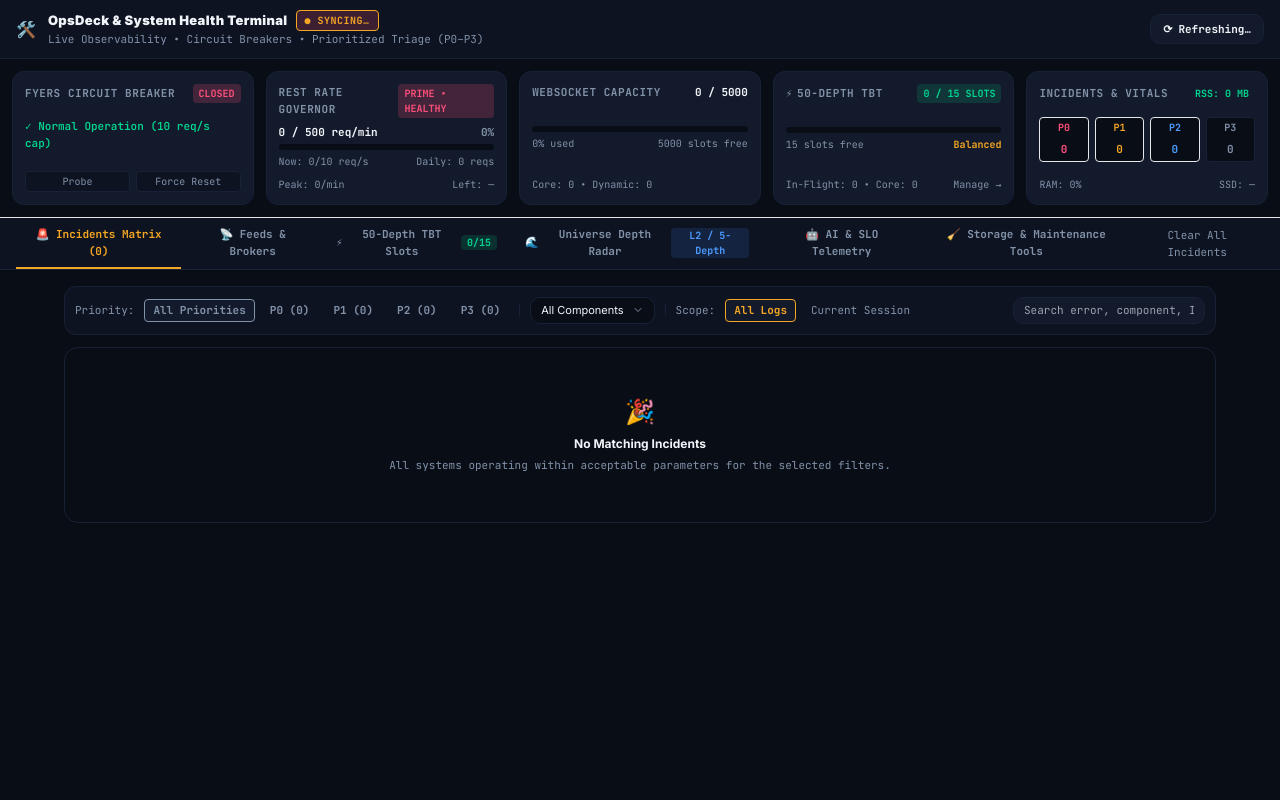
it: OpsDeck & System Health Hub UI Tests › OpsDeckView renders full institutional dashboard with tabs
Expected: the heading "OpsDeck & System Health Terminal" is shown, [48,10,288,31]
Expected: the text "PRIME • HEALTHY" is shown, [398,84,494,118]
Step 1. Click the button with test id "tab-feeds" → [253, 244], box [185,218,320,269]
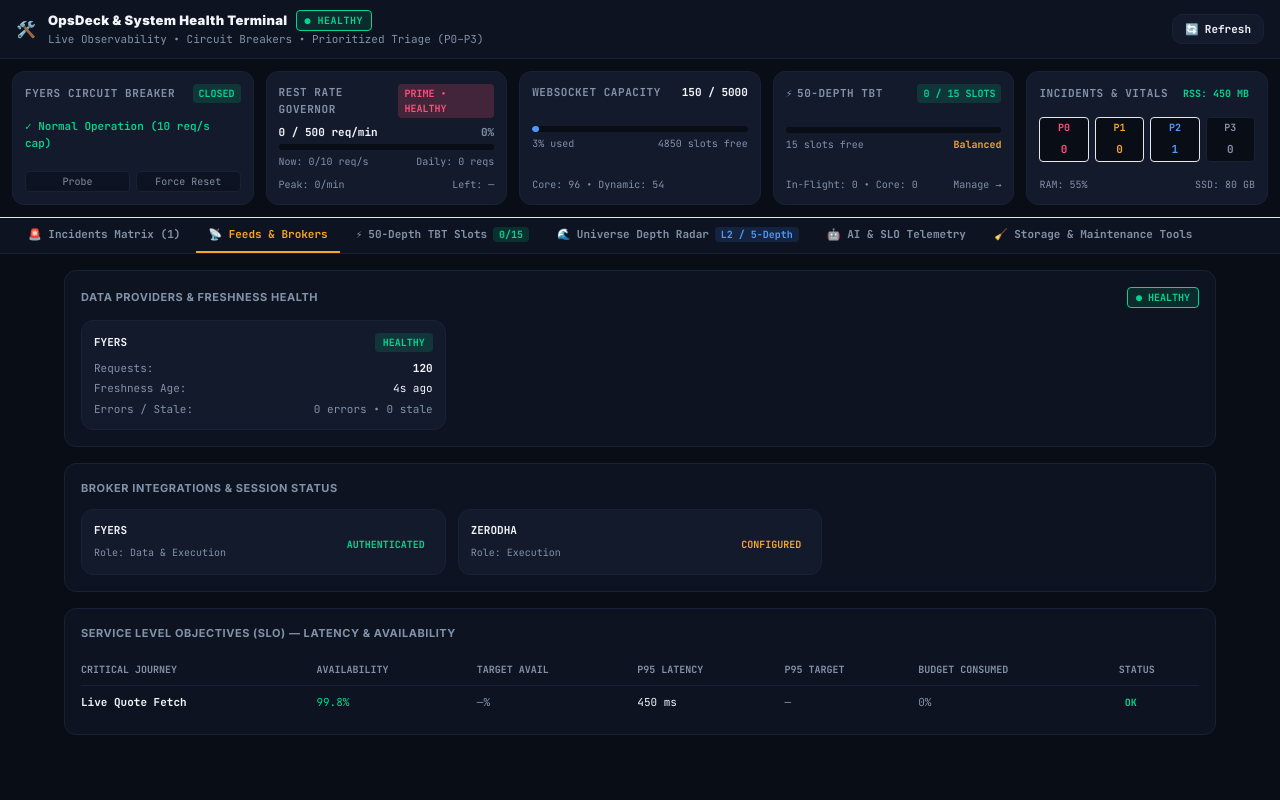
Expected: the text "Fyers Circuit Breaker" is shown, [25,85,175,101]
Result: the heading "Data Providers & Freshness Health" is shown at [81,289,318,305]
Result: the heading "Broker Integrations & Session Status" is shown at [81,481,338,495]
Step 2. Click the button with test id "tab-maintenance" → [1093, 235], box [982,218,1204,252]
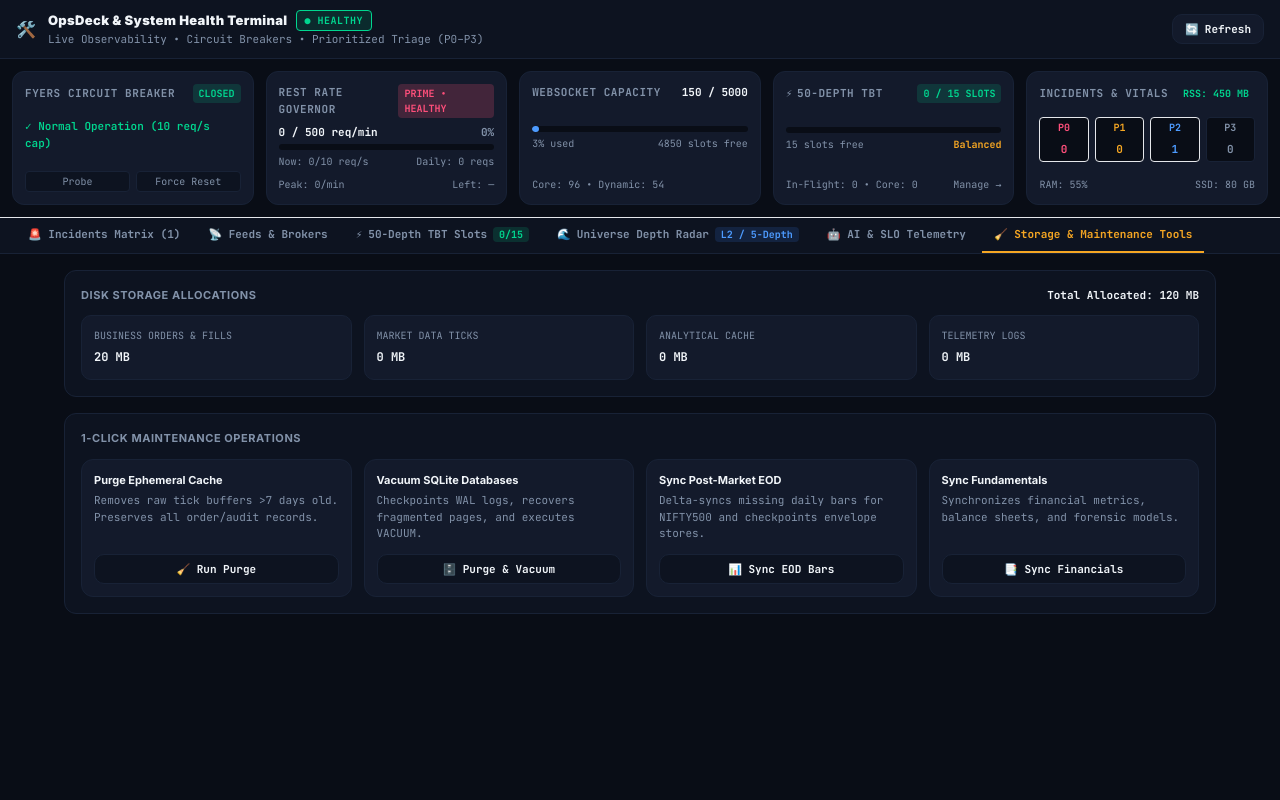
Result: the heading "Disk Storage Allocations" is shown at [81,286,256,303]
Result: the heading "Purge Ephemeral Cache" is shown at [94,472,223,486]
Result: the heading "Sync Fundamentals" is shown at [942,472,1047,486]
